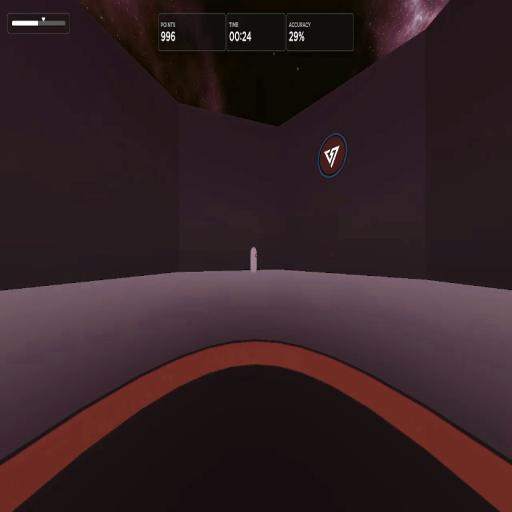Crosshair: (256, 254, 258, 258)
Target: (250, 246, 257, 274)
